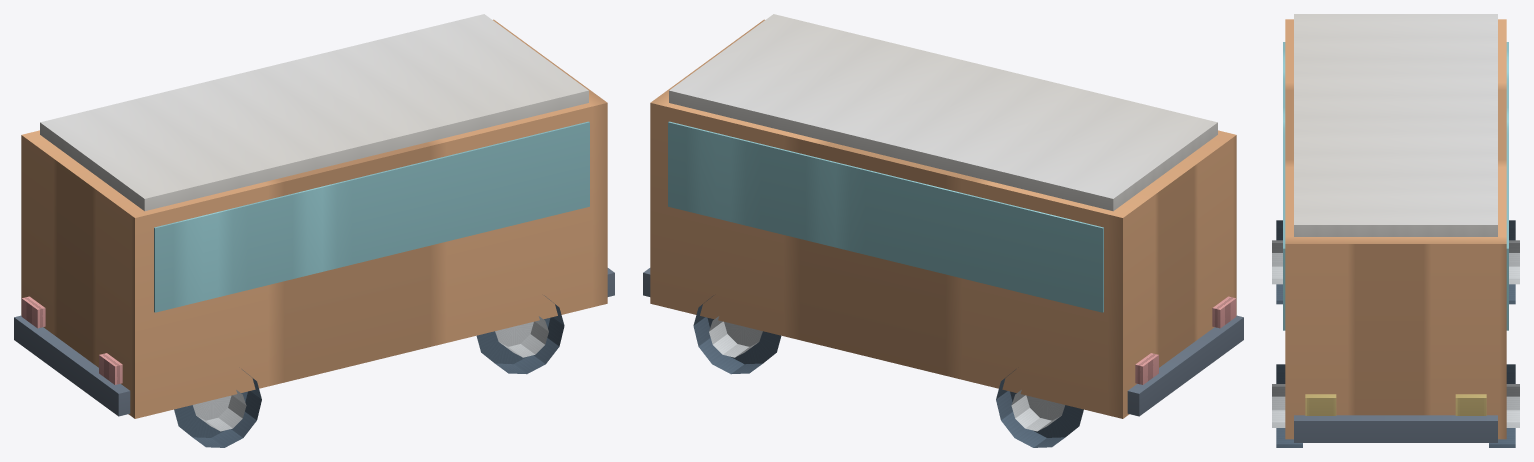
The model's file is minibus.glb.
3 renders of one model, left to right at view 1: azimuth 30°, elevation 25°; view 2: azimuth 150°, elevation 25°; view 3: azimuth 270°, elevation 25°, orthographic. The views are drawn at different scales.
Visible parts, largest first — view 1: minibus; view 2: minibus; view 3: minibus.
Boxes of the visible parts, <box> form: minibus: <box>14,14,614,447</box>; minibus: <box>643,14,1243,447</box>; minibus: <box>1272,14,1519,447</box>.
Size of the model in its own units: 5.04 by 2.52 by 2.24.
1 material, 1 textured.
